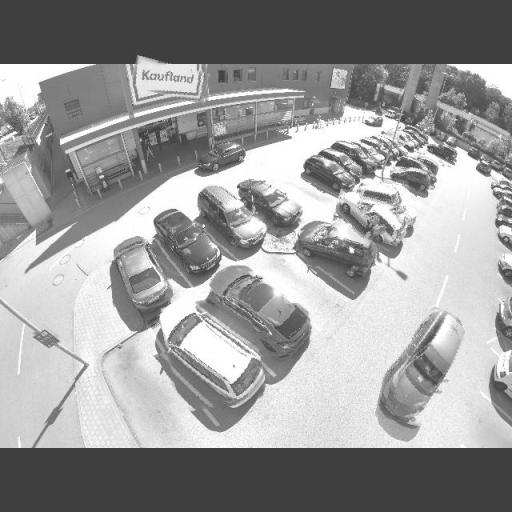busy: (163, 296, 264, 410), (381, 304, 464, 429), (213, 268, 312, 360), (112, 236, 172, 310), (301, 219, 376, 277), (158, 210, 220, 273), (198, 186, 261, 248), (332, 192, 406, 243), (131, 60, 210, 100), (241, 179, 303, 227), (358, 178, 413, 212), (199, 141, 246, 171), (305, 158, 349, 189), (392, 165, 434, 193), (334, 139, 373, 165), (324, 149, 361, 173), (361, 137, 389, 162), (497, 252, 512, 285)
free: (111, 355, 177, 413), (282, 266, 328, 304), (390, 184, 418, 206), (299, 182, 322, 198), (425, 155, 442, 168)
